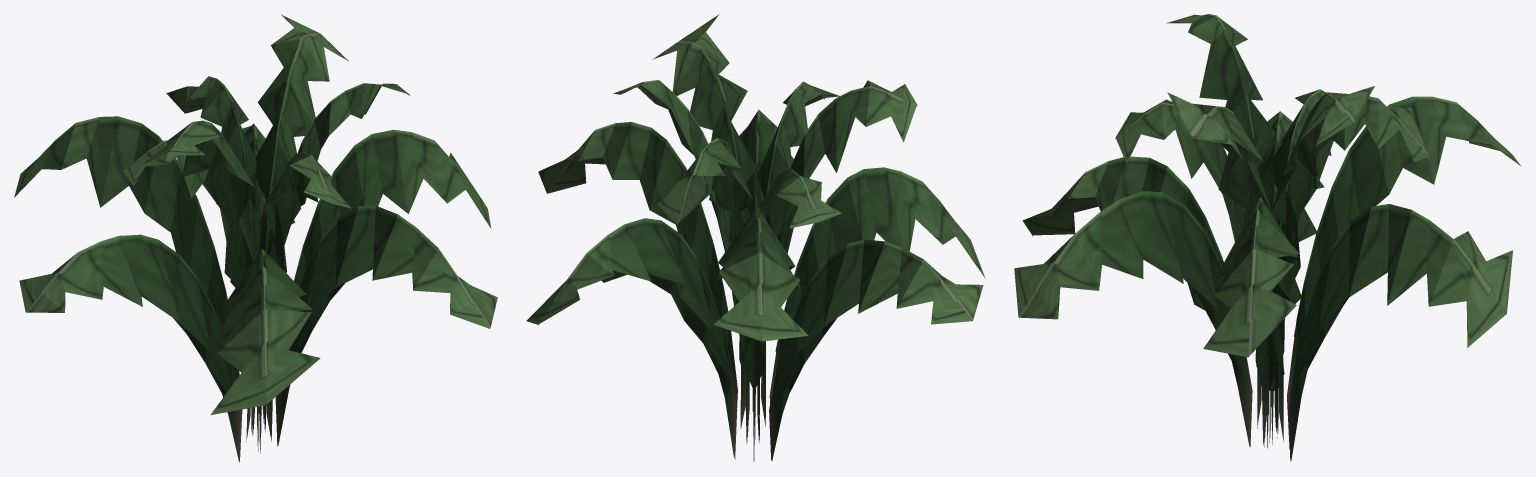
The model's file is Unkraut.fbx.
3 views of the same model, side by side, from view 1: azimuth 30°, elevation 25°; view 2: azimuth 150°, elevation 25°; view 3: azimuth 270°, elevation 25° (orthographic). The views are drawn at different scales.
Visible parts, largest first — view 1: Unkraut; view 2: Unkraut; view 3: Unkraut.
Part boxes in pixels (x1,y1,x2,y2): Unkraut: (14, 14, 497, 462); Unkraut: (526, 14, 985, 461); Unkraut: (1014, 14, 1520, 461).
Bounding box in the file's own units: 0.4903 × 0.4108 × 0.4599.
